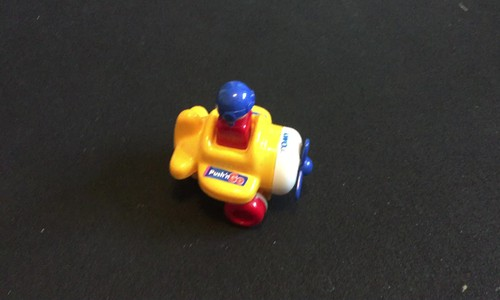toy: (163, 77, 314, 231)
